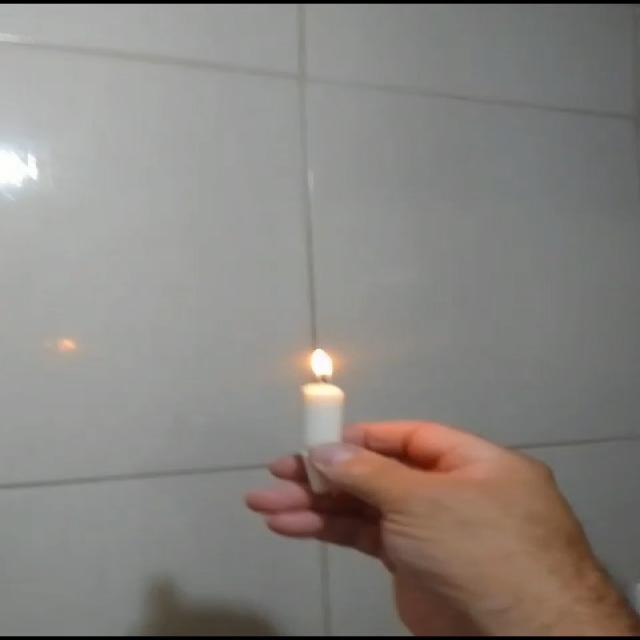fogo-ypXI: (298, 346, 340, 382)
